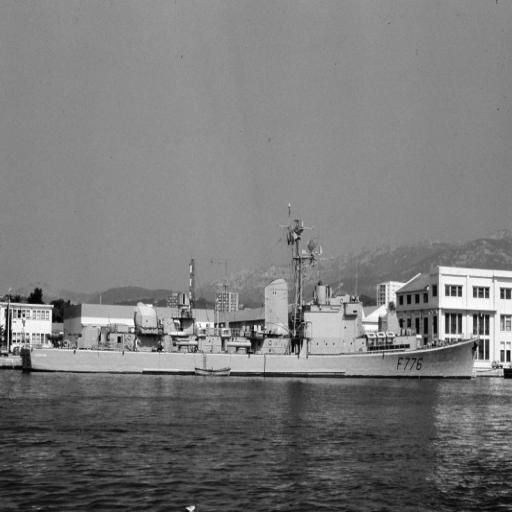Fragata: (19, 203, 483, 383)
